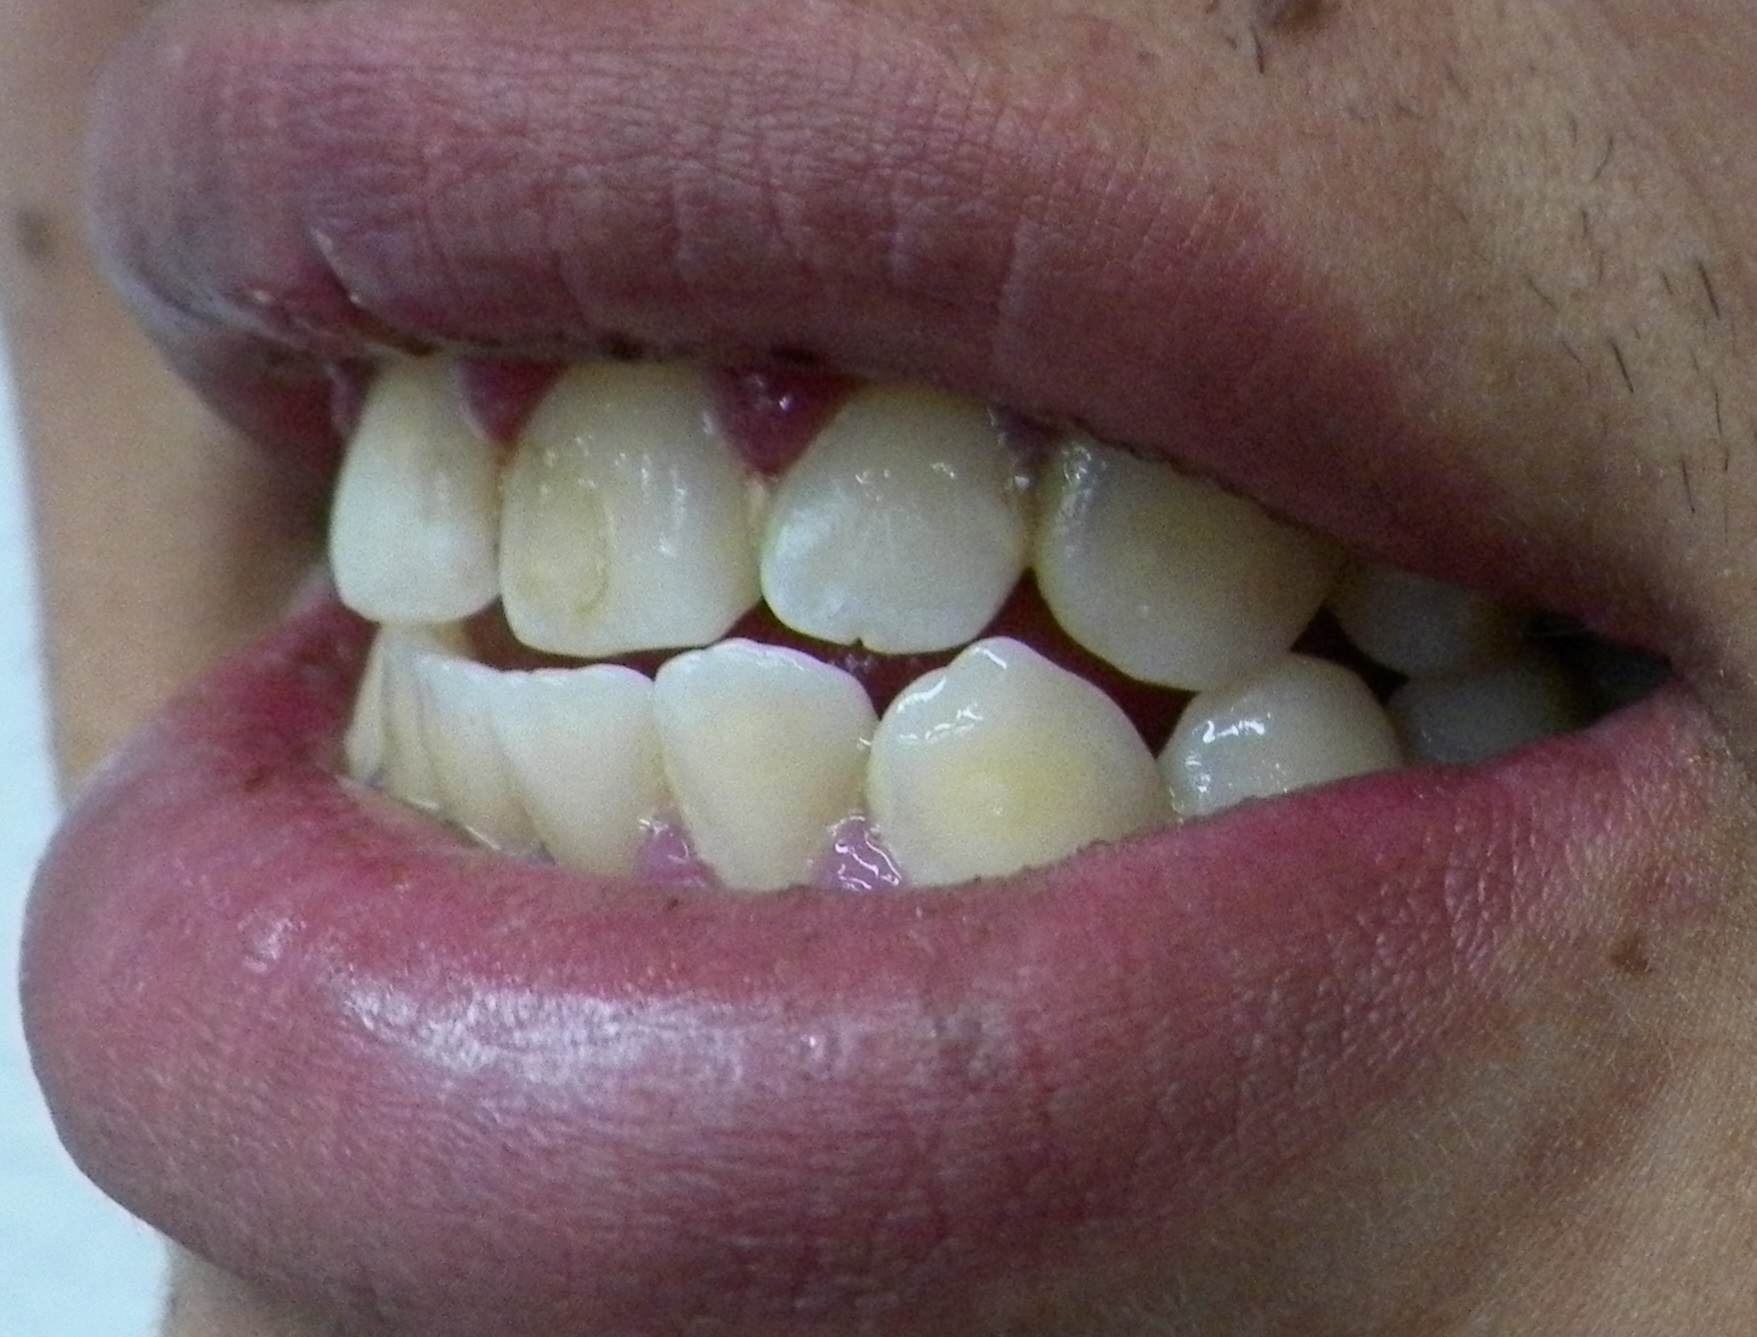boca: (330, 360, 1624, 886)
